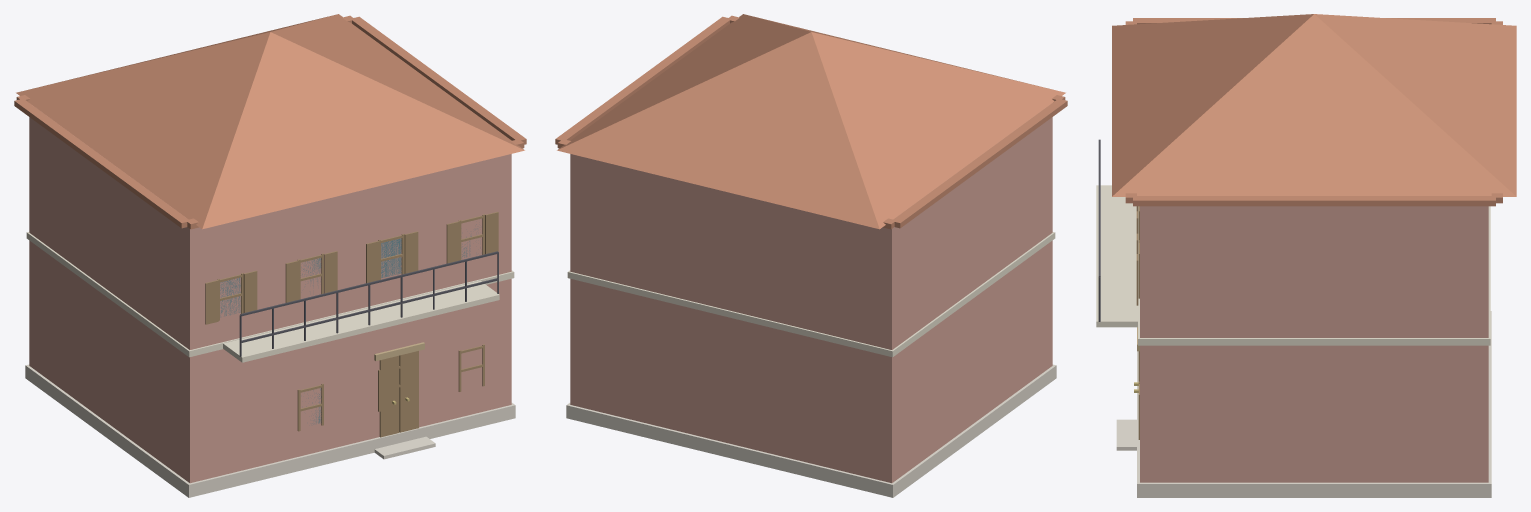
The model's file is mdl_buildings_house_colonial_02_001.glb.
3 renders of one model, left to right at view 1: azimuth 30°, elevation 25°; view 2: azimuth 150°, elevation 25°; view 3: azimuth 270°, elevation 25°, orthographic. The views are drawn at different scales.
Parts seen in each view (by area): view 1: m_fachada, m_teja, m_madera, m_caliza, m_crema, m_carbon, m_vidrio_petroleo; view 2: m_fachada, m_teja, m_caliza, m_crema; view 3: m_fachada, m_teja, m_crema, m_caliza, m_madera, m_carbon.
Part boxes in pixels (x1=…): m_fachada: x1=29, y1=117, x2=511, y2=483; m_teja: x1=14, y1=14, x2=526, y2=229; m_madera: x1=205, y1=211, x2=498, y2=437; m_caliza: x1=25, y1=364, x2=515, y2=497; m_crema: x1=26, y1=232, x2=514, y2=362; m_carbon: x1=239, y1=251, x2=498, y2=356; m_vidrio_petroleo: x1=220, y1=224, x2=480, y2=424; m_fachada: x1=570, y1=117, x2=1052, y2=483; m_teja: x1=555, y1=14, x2=1067, y2=229; m_caliza: x1=566, y1=364, x2=1056, y2=497; m_crema: x1=567, y1=232, x2=1055, y2=357; m_fachada: x1=1140, y1=206, x2=1488, y2=482; m_teja: x1=1112, y1=14, x2=1516, y2=206; m_crema: x1=1096, y1=185, x2=1490, y2=345; m_caliza: x1=1116, y1=311, x2=1491, y2=497; m_madera: x1=1136, y1=206, x2=1139, y2=439; m_carbon: x1=1098, y1=139, x2=1100, y2=321.
Size of the model in its own units: 8.33 by 8.45 by 8.1.
